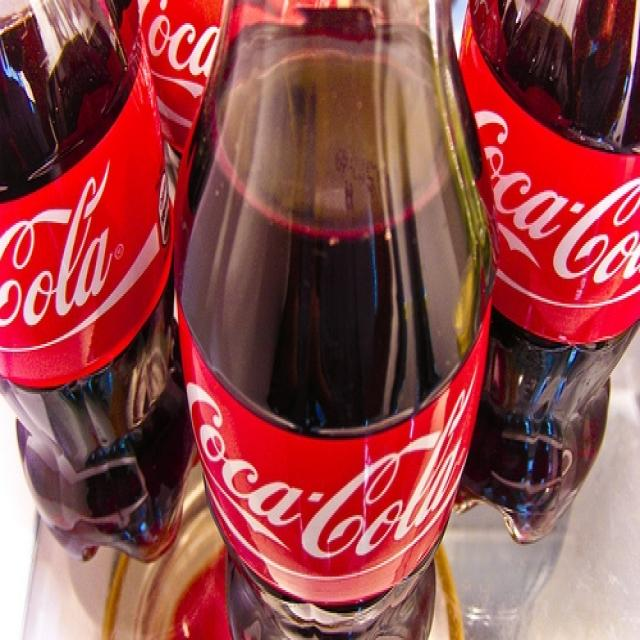cocacola: (184, 370, 477, 593), (472, 103, 640, 310), (2, 159, 123, 357), (139, 3, 221, 101)
